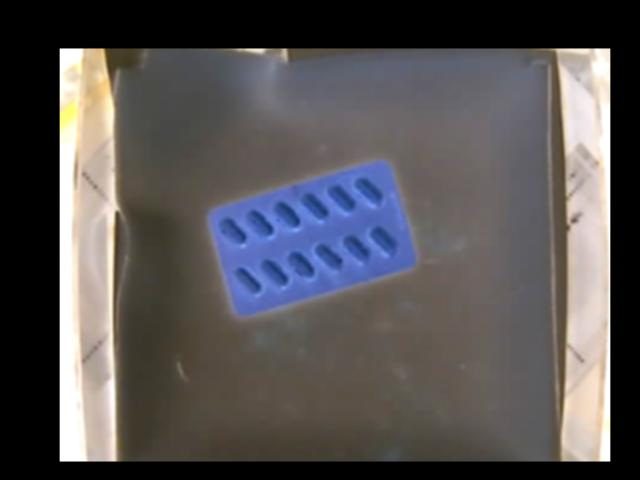Medicine: (207, 161, 414, 316)
